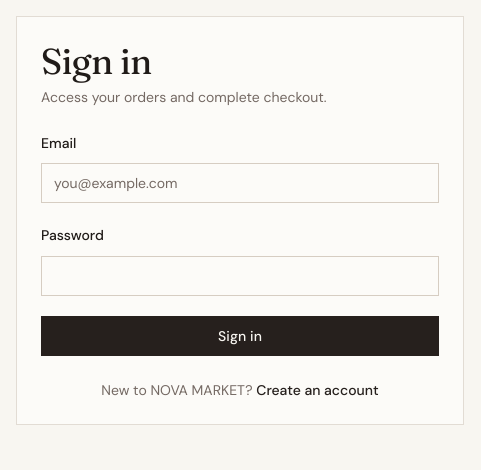
Scenario: LoginPage › rejects a malformed email address
Type "not-an-email" into the field labelled "Email" at (240, 183), box [41,163,439,203]
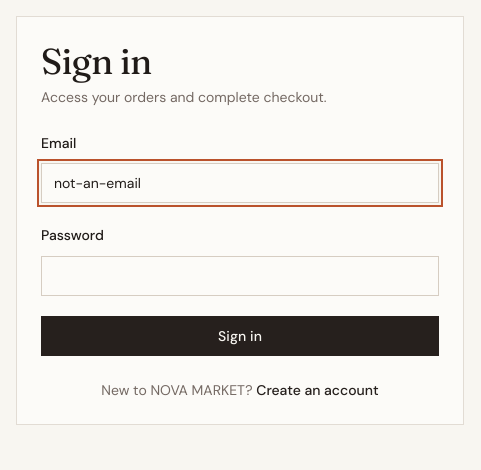
Type "Password1" into the password field labelled "Password" at (240, 276), box [41,256,439,296]
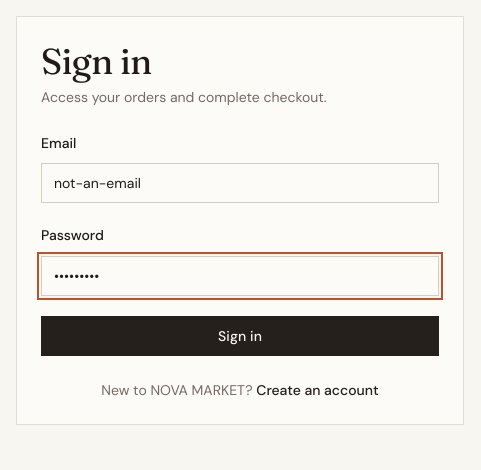
Click the button "Sign in" at (240, 336), box [41,316,439,356]
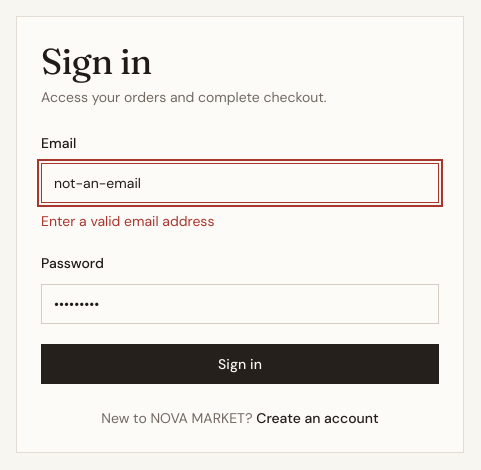
Expected: the text "Enter a valid email address" is shown, [41,212,214,230]
